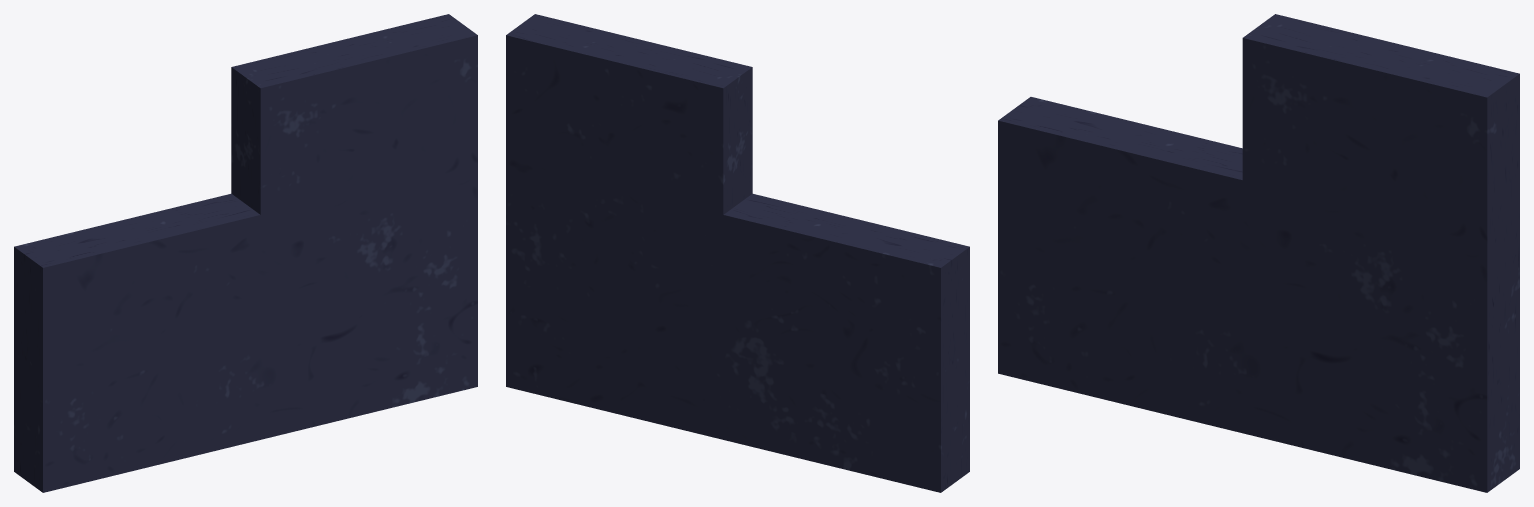
3 renders of one model, left to right at view 1: azimuth 30°, elevation 25°; view 2: azimuth 150°, elevation 25°; view 3: azimuth 330°, elevation 25°, orthographic. The views are drawn at different scales.
Visible parts, largest first — view 1: w_Low_L; view 2: w_Low_L; view 3: w_Low_L.
Boxes of the visible parts, x1,y1,x2,y2 form: w_Low_L: (14,14,477,492); w_Low_L: (506,14,969,492); w_Low_L: (998,14,1519,492).
Size of the model in its own units: 260 by 201 by 30.1.
Materials: 1 (1 with a texture image).
